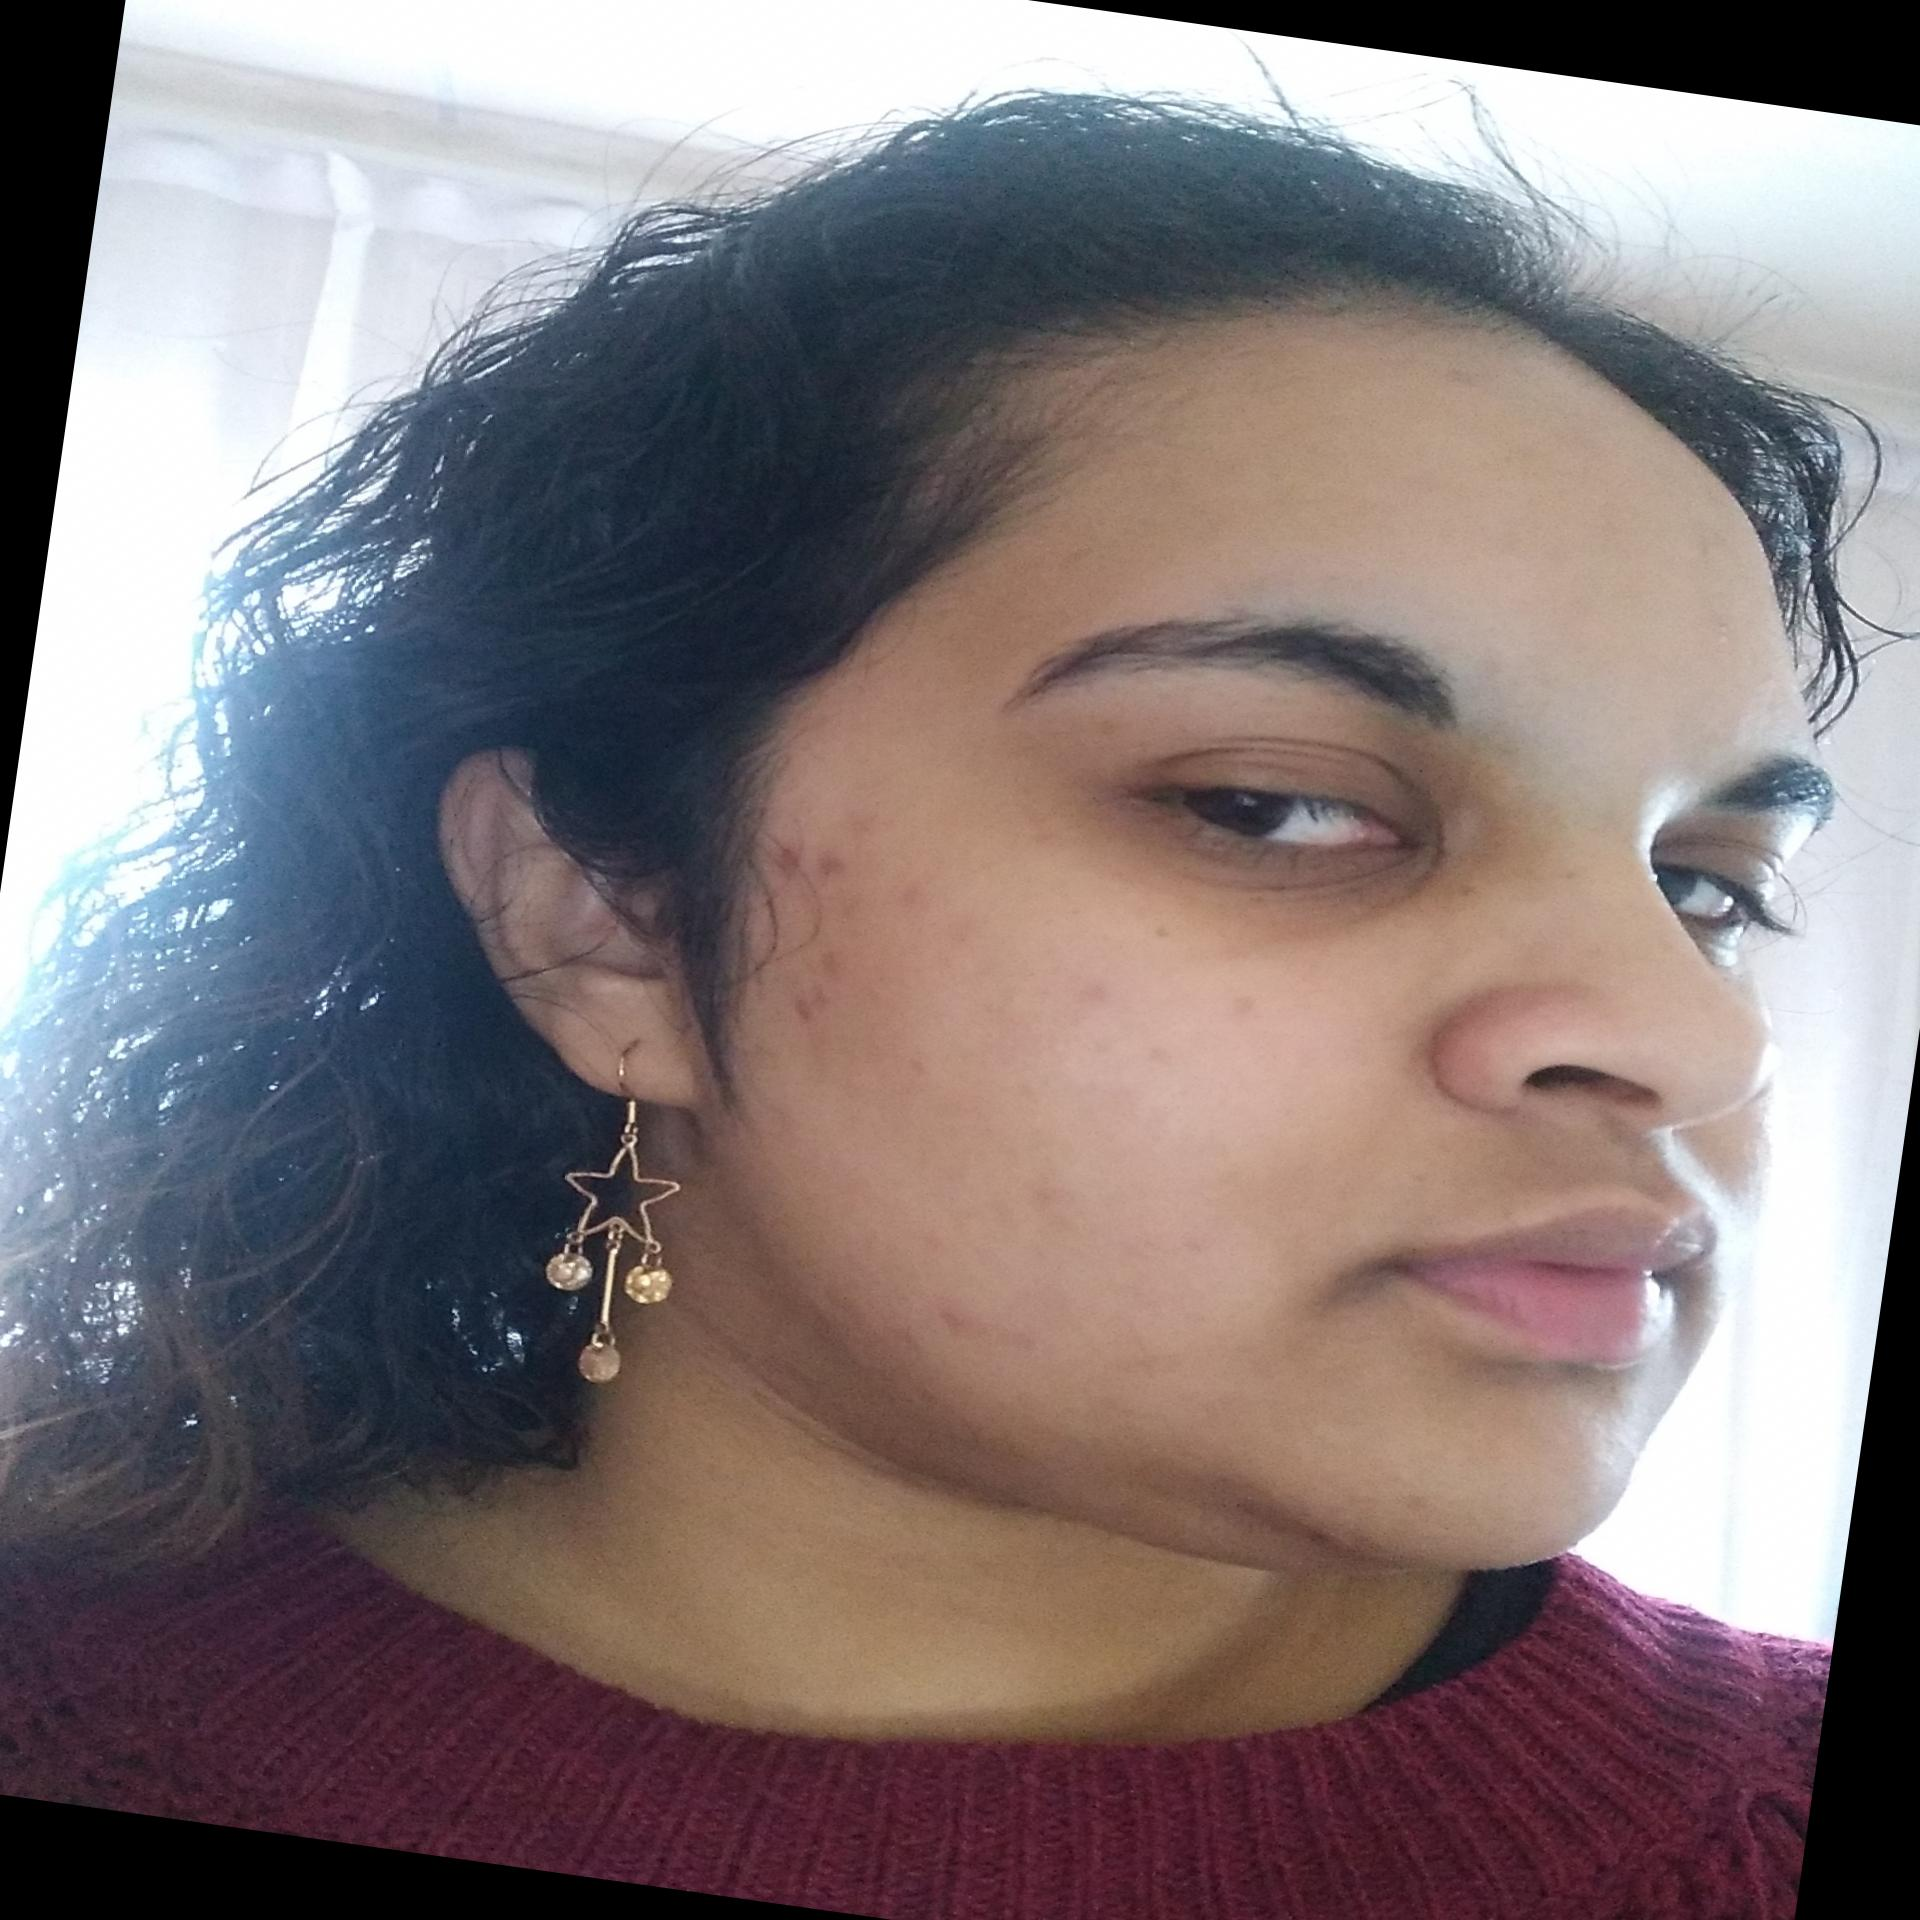Acne: (1006, 1173, 1083, 1243), (789, 941, 842, 1039), (907, 1296, 992, 1345), (886, 865, 941, 934), (795, 1285, 867, 1327), (1382, 1475, 1442, 1516), (884, 1043, 935, 1088), (842, 800, 895, 839), (1227, 988, 1271, 1027), (1182, 1215, 1211, 1271), (816, 847, 846, 897), (1071, 972, 1106, 1004), (770, 847, 796, 879)
Dark Circles: (1083, 795, 1456, 956)
